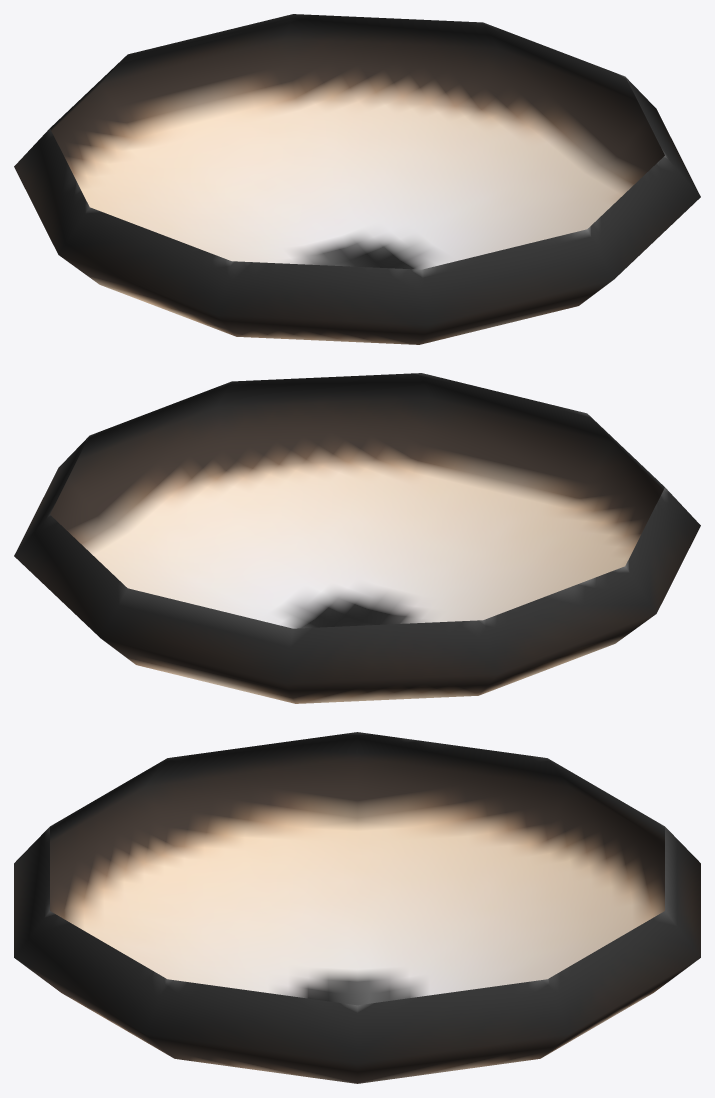
The model's file is Lamp_ceiling_1.fbx.
3 views of the same model, one above another, from view 1: azimuth 30°, elevation 25°; view 2: azimuth 150°, elevation 25°; view 3: azimuth 270°, elevation 25° (orthographic). The views are drawn at different scales.
Visible parts, largest first — view 1: pCylinder7; view 2: pCylinder7; view 3: pCylinder7.
Boxes of the visible parts, left/top/right/bottom form: pCylinder7: left=14, top=14, right=700, bottom=344; pCylinder7: left=14, top=373, right=700, bottom=703; pCylinder7: left=14, top=732, right=700, bottom=1083.
Bounding box in the file's own units: 0.7819 × 0.1726 × 0.7436.
